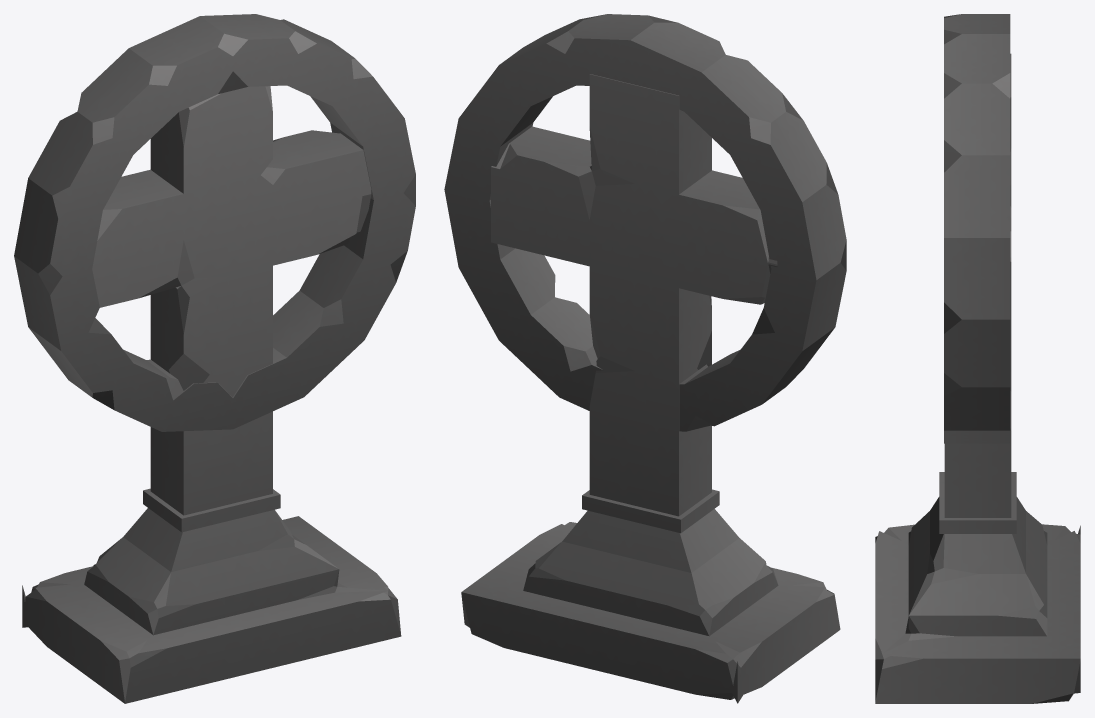
Rendered from Grave_2.fbx.
3 views of the same model, side by side, from view 1: azimuth 30°, elevation 25°; view 2: azimuth 150°, elevation 25°; view 3: azimuth 270°, elevation 25° (orthographic).
Visible parts, largest first — view 1: Plane.057, Circle; view 2: Plane.057, Circle; view 3: Plane.057, Circle.
Boxes of the visible parts, x1,y1,x2,y2 form: Plane.057: (22,86,401,703); Circle: (14,14,415,431); Plane.057: (461,74,840,703); Circle: (444,14,846,431); Plane.057: (875,53,1080,703); Circle: (944,14,1010,443).
Bounding box in the file's own units: 149 × 231 × 71.26.
1 material, 1 textured.
